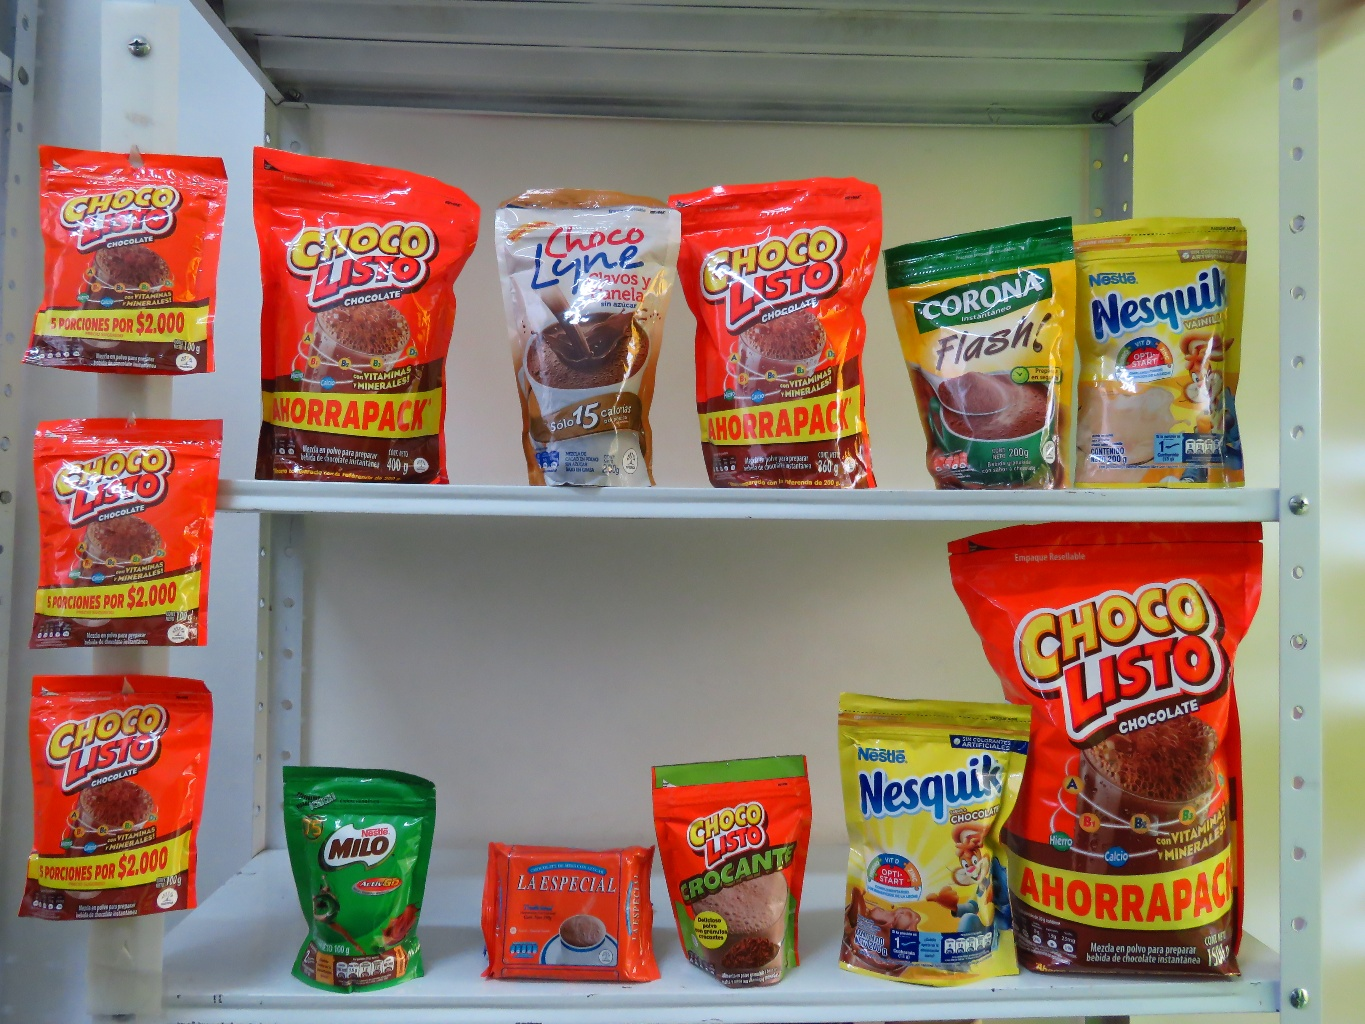COL0170102DYP10000: (646, 760, 831, 995)
COL0170103DYP1,500: (949, 517, 1268, 980)
COL0170103DYP10000: (17, 677, 216, 910)
COL0170103DYP36000: (665, 172, 876, 490)
COL0170103DYP40000: (234, 143, 475, 477)
COL0170203DYP10000: (261, 765, 436, 990)
COL0170303DYP20000: (834, 691, 1029, 986)
COL0170306DYP20000: (1068, 207, 1272, 498)
